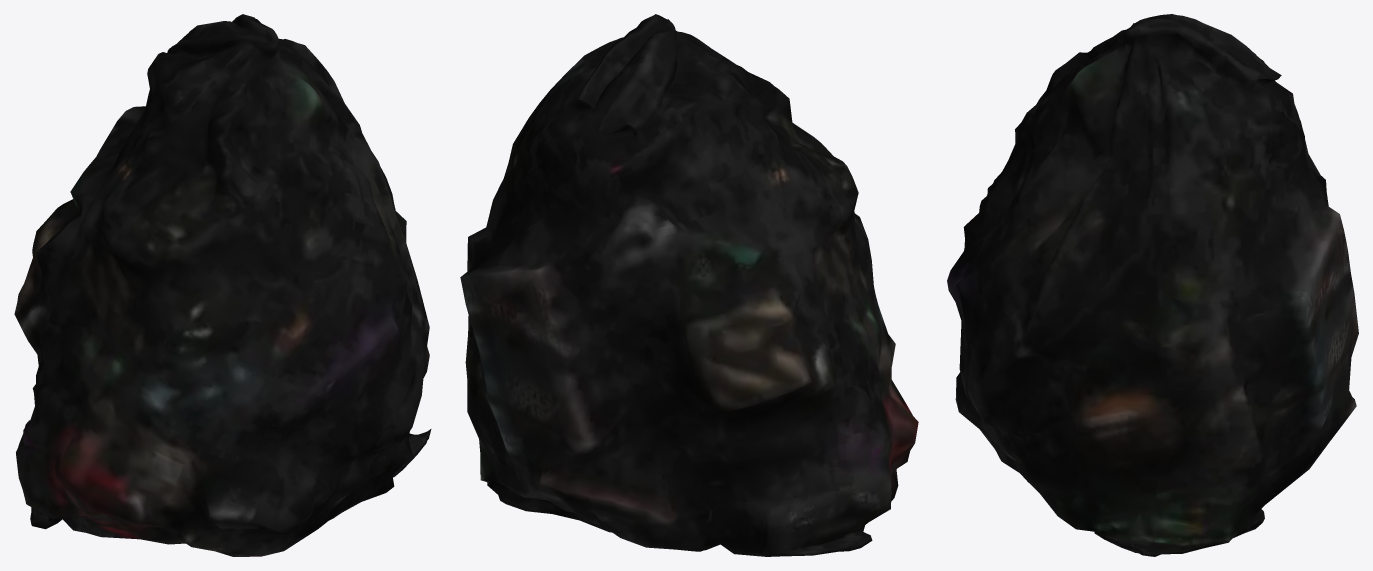
The model's file is trashbag.glb.
3 views of the same model, side by side, from view 1: azimuth 30°, elevation 25°; view 2: azimuth 150°, elevation 25°; view 3: azimuth 270°, elevation 25° (orthographic). The views are drawn at different scales.
Parts seen in each view (by area): view 1: trashbag; view 2: trashbag; view 3: trashbag.
Part boxes in pixels (x1,y1,x2,y2): trashbag: (14, 14, 431, 556); trashbag: (460, 14, 918, 556); trashbag: (947, 14, 1358, 556).
Bounding box in the file's own units: 0.5281 × 0.575 × 0.4629.
1 material, 1 textured.
